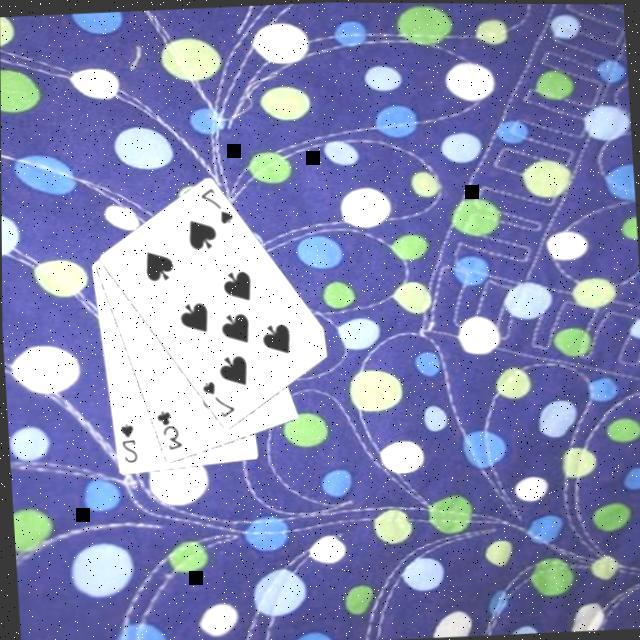2S: (117, 421, 141, 468)
3C: (154, 407, 186, 455)
7S: (200, 377, 240, 423), (198, 184, 238, 230)
